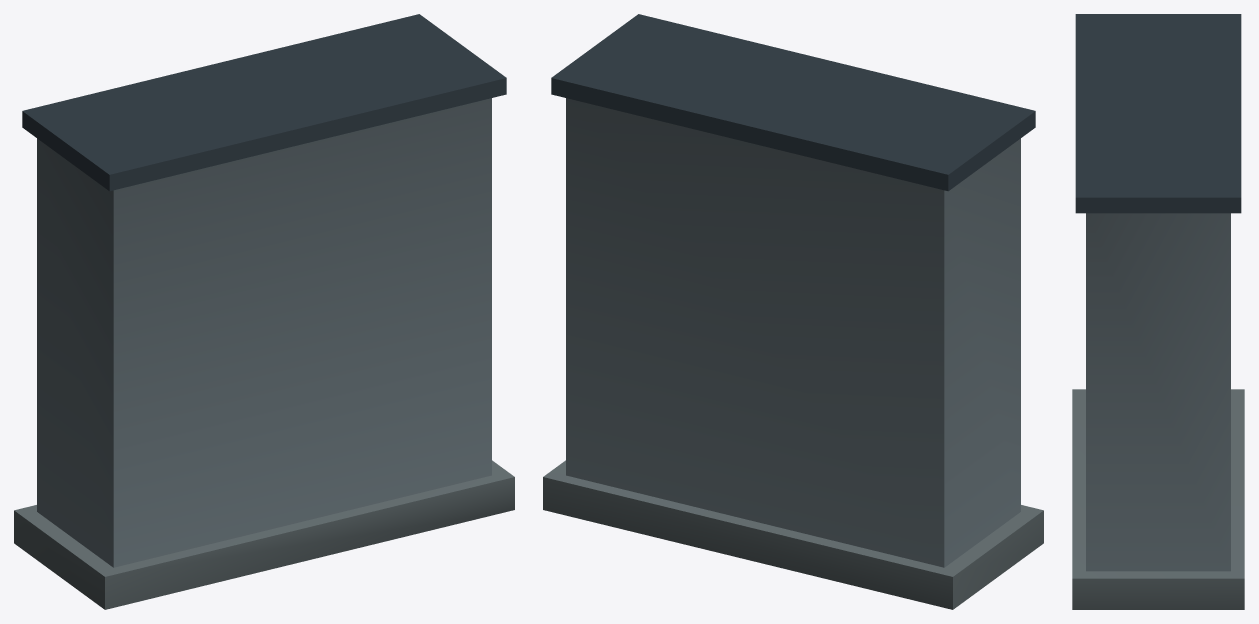
File: utility-cabinet.lod2.glb
The picture shows the model from 3 angles, left to right: view 1: azimuth 30°, elevation 25°; view 2: azimuth 150°, elevation 25°; view 3: azimuth 270°, elevation 25°; orthographic projection. The views are drawn at different scales.
Parts seen in each view (by area): view 1: structure; view 2: structure; view 3: structure.
Part boxes in pixels (box(x1,y1,x2,y2)): structure: box(14, 14, 514, 609); structure: box(543, 14, 1043, 609); structure: box(1072, 14, 1244, 609).
Bounding box in the file's own units: 1.3 × 1.31 × 0.5.
